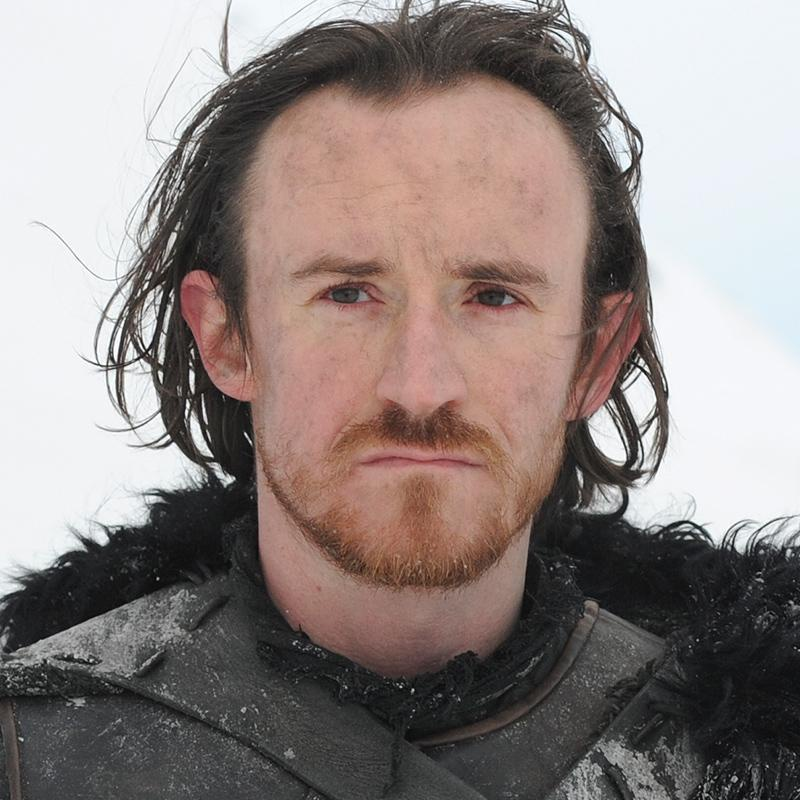bad: (204, 204, 589, 590)
